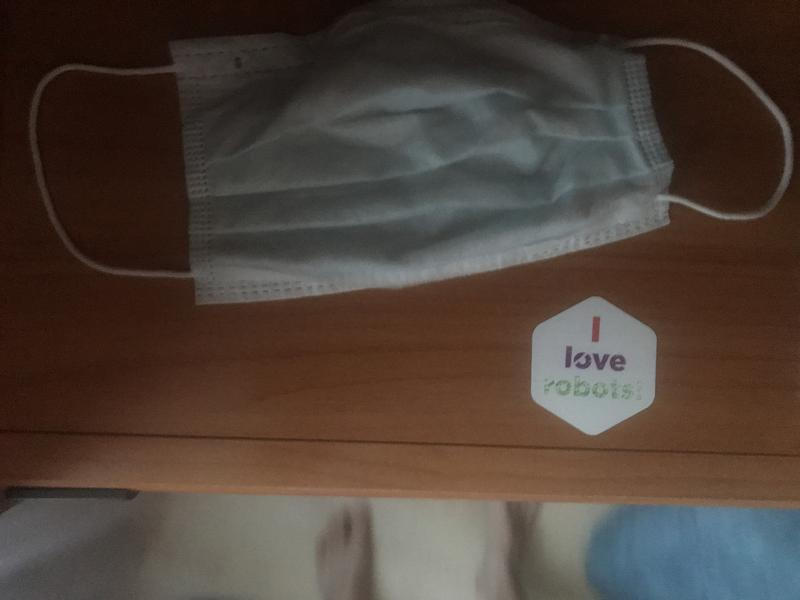medical_mask: (28, 8, 792, 298)
